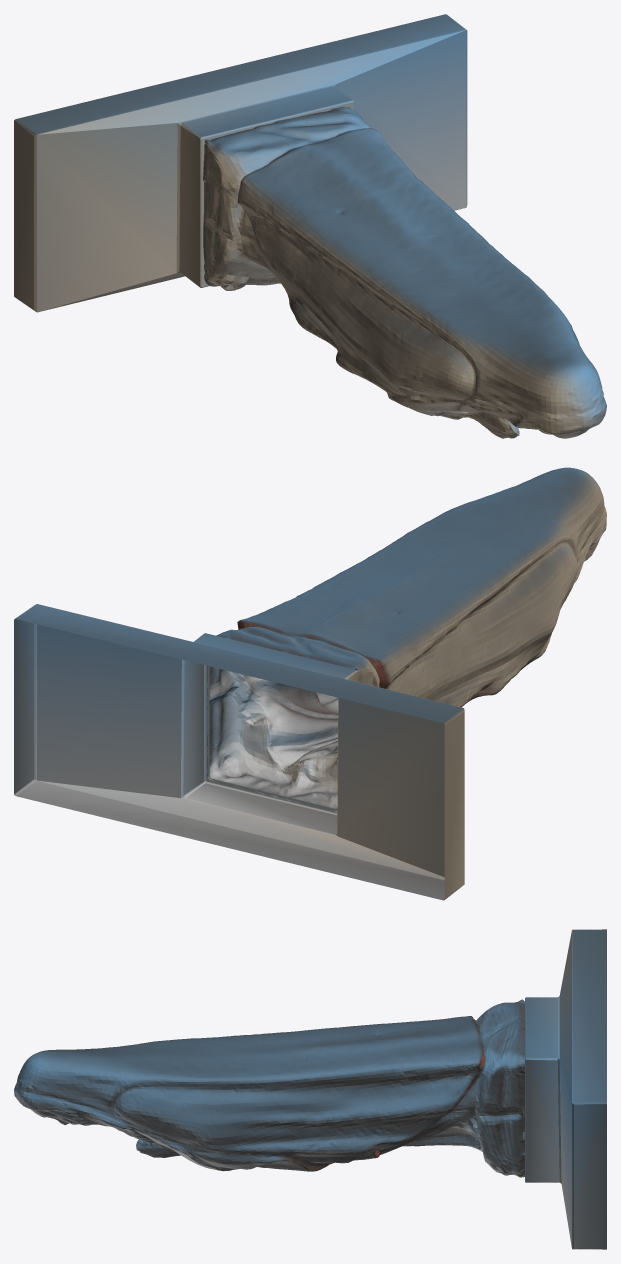
File: merry.obj
The picture shows the model from 3 angles, top to bottom: view 1: azimuth 30°, elevation 25°; view 2: azimuth 150°, elevation 25°; view 3: azimuth 270°, elevation 25°; orthographic projection. The views are drawn at different scales.
Parts seen in each view (by area): view 1: default; view 2: default; view 3: default.
Part boxes in pixels (left/top/right/bottom): default: left=14, top=14, right=606, bottom=438; default: left=14, top=467, right=606, bottom=900; default: left=14, top=929, right=606, bottom=1249.
Size of the model in its own units: 2.4 by 0.9427 by 3.45.
